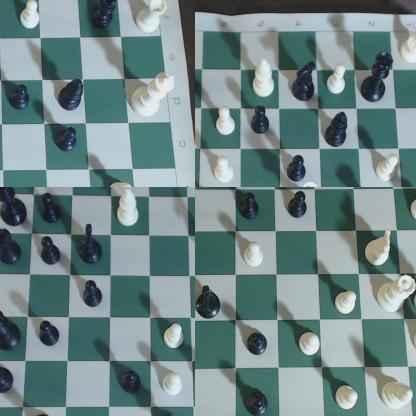black-bishop: (325, 110, 351, 150), (61, 77, 87, 116), (93, 1, 118, 35), (1, 363, 16, 395)
black-king: (1, 188, 33, 229)
black-knight: (291, 61, 318, 105), (81, 220, 104, 269), (196, 286, 223, 320)
black-pawn: (50, 127, 85, 162), (33, 235, 68, 266), (283, 153, 316, 183), (37, 194, 67, 227), (251, 103, 276, 141), (287, 188, 312, 223), (80, 279, 108, 310), (239, 190, 264, 223), (15, 83, 37, 119), (37, 320, 62, 348), (246, 388, 271, 416), (120, 370, 144, 396), (247, 329, 267, 354)
black-queen: (362, 52, 397, 106), (1, 307, 25, 353)
black-rook: (1, 227, 26, 268)
white-bishop: (380, 373, 416, 412), (250, 56, 279, 102), (119, 188, 142, 228)
white-king: (132, 70, 177, 120)
white-knight: (365, 231, 396, 267), (398, 22, 416, 69)
white-pawn: (17, 1, 46, 38), (296, 323, 323, 361), (242, 239, 271, 274), (331, 285, 359, 317), (214, 154, 241, 187), (163, 317, 188, 350), (336, 381, 359, 416), (326, 64, 349, 98), (376, 155, 399, 186), (219, 106, 240, 138), (163, 373, 185, 397), (108, 175, 142, 187)
white-queen: (374, 271, 416, 317)
